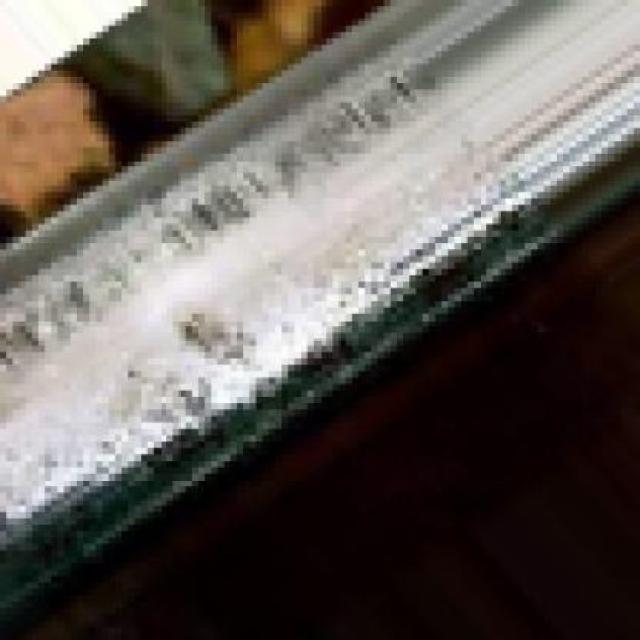defective: (3, 0, 634, 581)
